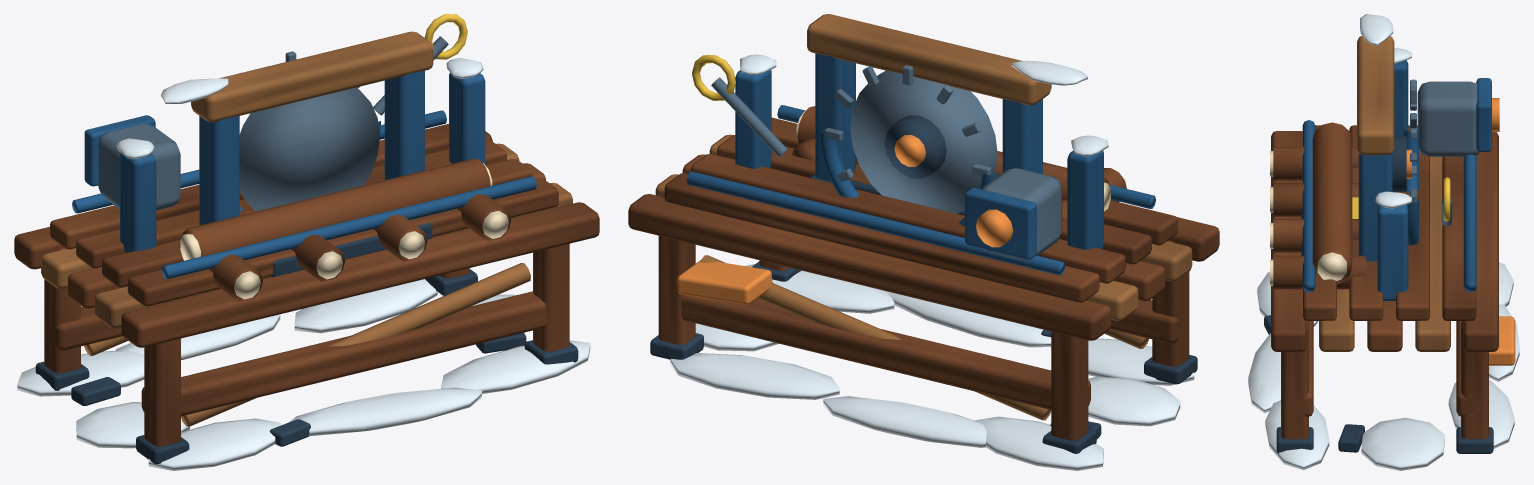
Rendered from processing_counter.glb.
3 views of the same model, side by side, from view 1: azimuth 30°, elevation 25°; view 2: azimuth 150°, elevation 25°; view 3: azimuth 270°, elevation 25° (orthographic). The views are drawn at different scales.
Visible parts, largest first — view 1: processing_counter; view 2: processing_counter; view 3: processing_counter.
Boxes of the visible parts, left/top/right/bottom form: processing_counter: left=14, top=14, right=599, bottom=470; processing_counter: left=628, top=14, right=1219, bottom=470; processing_counter: left=1248, top=14, right=1519, bottom=470.
Size of the model in its own units: 3.2 by 2.11 by 1.75.
